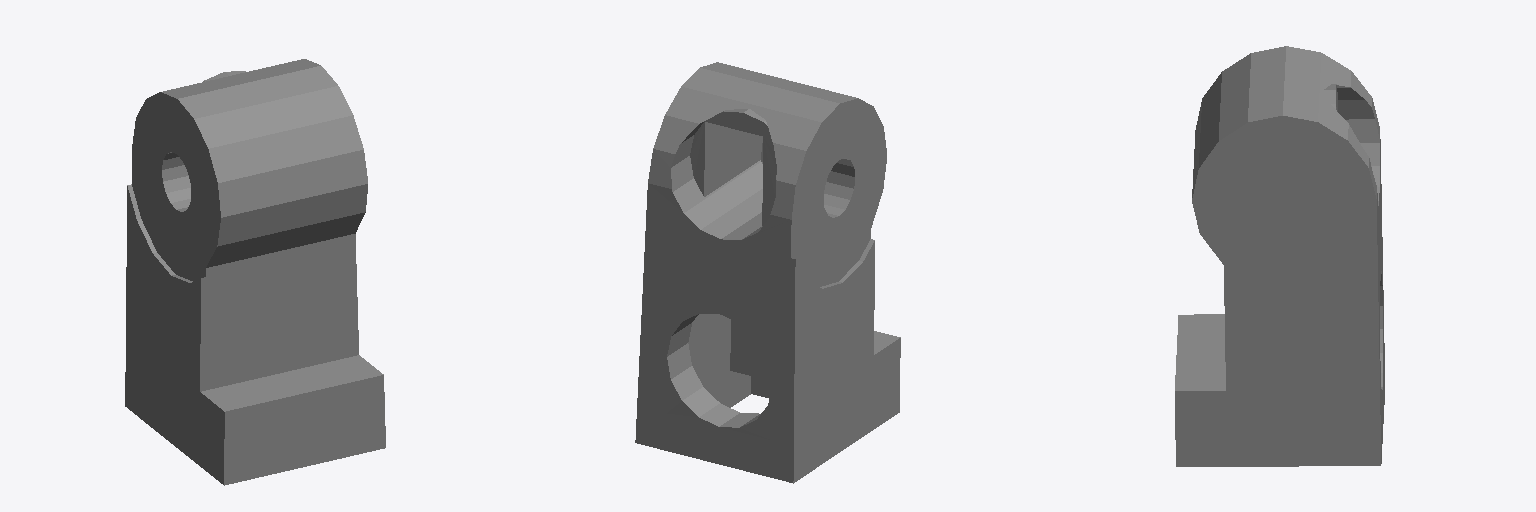
File: piernaIzq.obj
3 renders of one model, left to right at view 1: azimuth 30°, elevation 25°; view 2: azimuth 150°, elevation 25°; view 3: azimuth 270°, elevation 25°, orthographic.
Visible parts, largest first — view 1: piernaIzqHomero; view 2: piernaIzqHomero; view 3: piernaIzqHomero.
Part boxes in pixels (left/top/right/bottom): piernaIzqHomero: left=125, top=59, right=385, bottom=485; piernaIzqHomero: left=635, top=62, right=900, bottom=483; piernaIzqHomero: left=1175, top=46, right=1384, bottom=466.
Bounding box in the file's own units: 1.19 × 2.4 × 1.32.